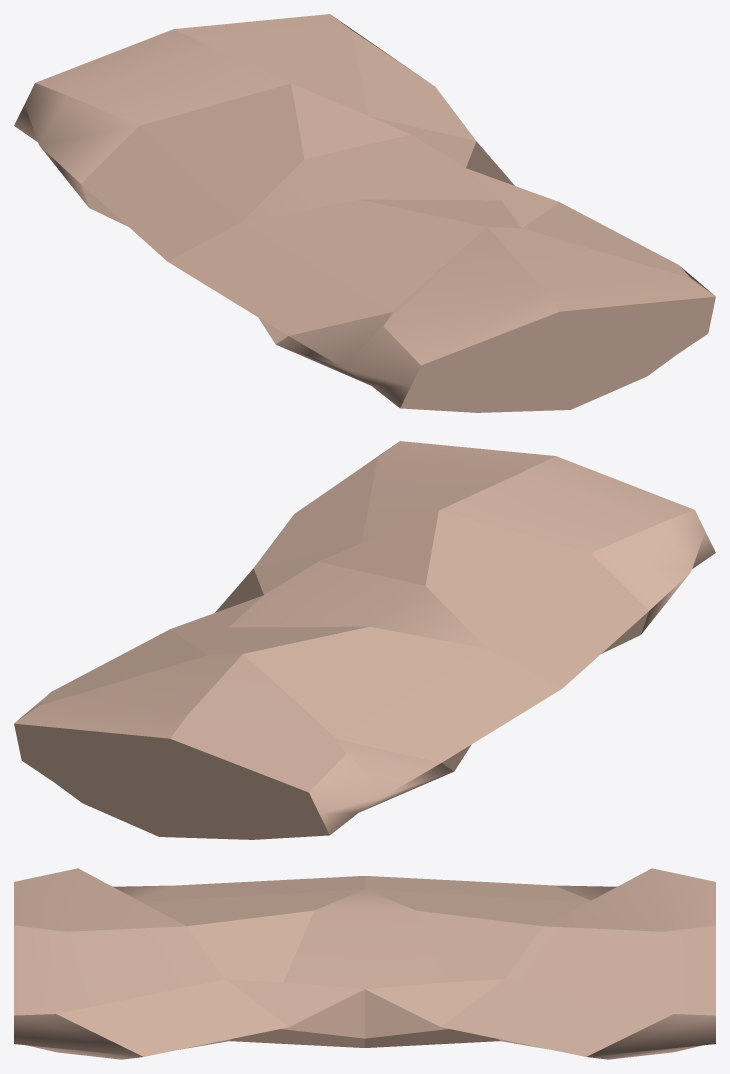
Rendered from plancherVolcanPetit.fbx.
3 views of the same model, one above another, from view 1: azimuth 30°, elevation 25°; view 2: azimuth 150°, elevation 25°; view 3: azimuth 270°, elevation 25° (orthographic). The views are drawn at different scales.
Parts seen in each view (by area): view 1: plancherVolcanPetit; view 2: plancherVolcanPetit; view 3: plancherVolcanPetit.
Part boxes in pixels (x1,y1,x2,y2): plancherVolcanPetit: (14,14,715,412); plancherVolcanPetit: (14,441,715,839); plancherVolcanPetit: (14,868,715,1059).
Bounding box in the file's own units: 106 × 33.38 × 182.
